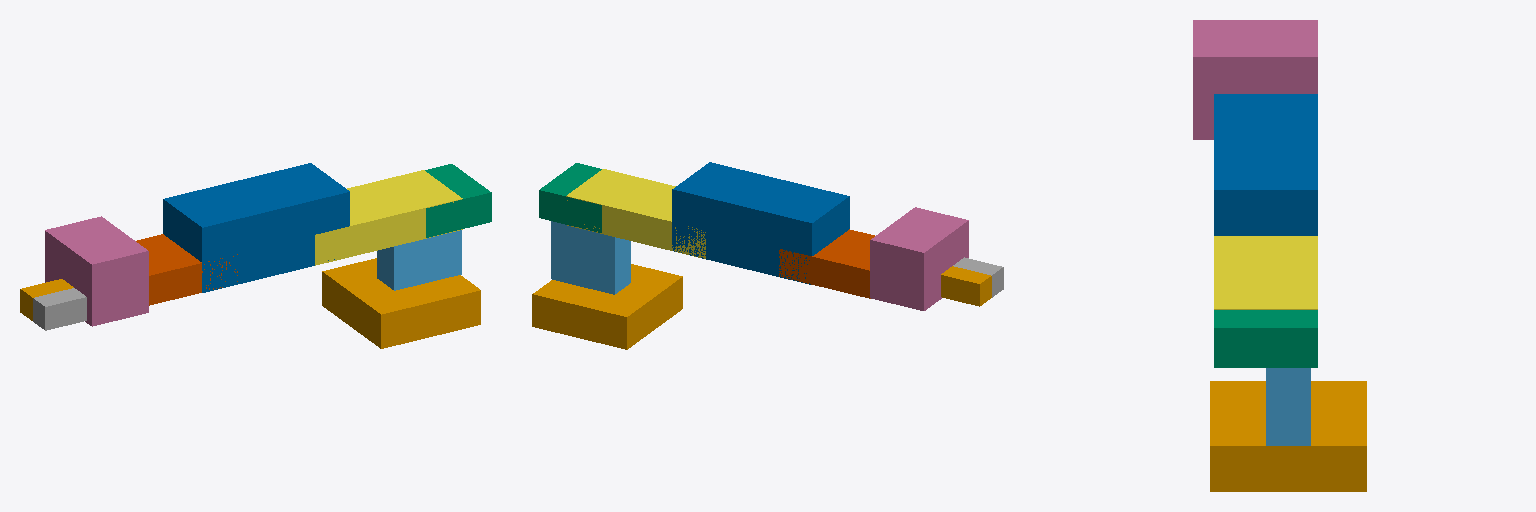
robot.urdf — arm:
<?xml version="1.0"?>
<robot name="arm">

  <link name="base_link">
    <visual>
      <geometry>
        <box size="0.088 0.090 0.029"/>
      </geometry> 
      <origin rpy="0 0 0" xyz="0 0 0"/>
    </visual>
    <collision>
      <geometry>
        <box size="0.088 0.090 0.029"/>
      </geometry> 
      <origin rpy="0 0 0" xyz="0 0 0"/>
    </collision>
  </link>

  <link name="base_up">
    <visual>
      <geometry>
        <box size="0.059 0.026 0.054"/>
      </geometry>
      <origin rpy="0 0 0" xyz="0 0 0"/>
    </visual>
    <collision>
      <geometry>
        <box size="0.059 0.026 0.054"/>
      </geometry>
      <origin rpy="0 0 0" xyz="0 0 0"/>
    </collision>
  </link>

  <joint name="baseup_link" type="fixed">
    <parent link="base_link"/>
    <child link="base_up"/>
    <origin xyz="0.0155 0 0.0415"/>
  </joint>

  <link name="servo_rotz">
    <visual>
      <geometry>
        <box size="0.058 0.060 0.025"/>
      </geometry>
      <origin rpy="0 0 0" xyz="0 -0.013 0"/>
    </visual>
    <collision>
      <geometry>
        <box size="0.058 0.060 0.025"/>
      </geometry>
      <origin rpy="0 0 0" xyz="0 -0.013 0"/>
    </collision>
  </link>

  <joint name="servo_link2" type="revolute">
    <axis xyz="0 0 1"/>
    <limit effort="1000.0" lower="-1.57" upper="1.57" velocity="0.5"/>
    <parent link="base_up"/>
    <child link="servo_rotz"/>
    <origin xyz="0.0095 0 0.0395"/>
  </joint>

  <link name="connection_servo12">
    <visual>
      <geometry>
        <box size="0.13 0.06 0.026"/>
      </geometry>
      <origin rpy="0 0 0" xyz="-0.052 0 0"/>
    </visual>
    <collision>
      <geometry>
        <box size="0.13 0.06 0.026"/>
      </geometry>
      <origin rpy="0 0 0" xyz="-0.052 0 0"/>
    </collision>
  </link>

  <joint name="con_up_1" type="revolute">
    <axis xyz="0 1 0"/>
    <limit effort="1000.0" lower="-1.57" upper="1.57" velocity="0.5"/>
    <parent link="servo_rotz"/>
    <child link="connection_servo12"/>
    <origin xyz="-0.009 -0.013 0"/>
  </joint>


  <link name="connection_servo23">
    <visual>
      <geometry>
        <box size="0.130 0.060 0.055"/>
      </geometry>
      <origin rpy="0 0 0" xyz="-0.047 0 0.0145"/>
    </visual>
    <collision>
      <geometry>
        <box size="1.30 0.60 0.55"/>
      </geometry>
      <origin rpy="0 0 0" xyz="-0.047 0 0.0145"/>
    </collision>
  </link>

  <joint name="con_up_2" type="revolute">
    <axis xyz="0 1 0"/>
    <limit effort="1000.0" lower="-1.57" upper="1.57" velocity="0.5"/>
    <parent link="connection_servo12"/>
    <child link="connection_servo23"/>
    <origin xyz="-0.104 0 0"/>
  </joint>

  <link name="servo_arm_rotation">
    <visual>
      <geometry>
        <box size="0.085 0.060 0.025 "/>
      </geometry>
      <origin rpy="0 0 0" xyz="-0.0295 0 0"/>
    </visual>
    <collision>
      <geometry>
        <box size="0.085 0.060 0.025 "/>
      </geometry>
      <origin rpy="0 0 0" xyz="-0.0295 0 0"/>
    </collision>
  </link>

 <joint name="con_up_3" type="revolute">
    <axis xyz="0 1 0"/>
    <limit effort="1000.0" lower="-1.57" upper="1.57" velocity="0.5"/>
    <parent link="connection_servo23"/>
    <child link="servo_arm_rotation"/>
    <origin xyz="-0.094 0 0"/>
  </joint>

  <link name="gripper_b">
    <visual>
      <geometry>
        <box size="0.050 0.072 0.052"/>
      </geometry>
      <origin rpy="0 0 0" xyz="-0.025 -0.019 0.014"/>
    </visual>
    <collision>
      <geometry>
        <box size="0.050 0.072 0.052"/>
      </geometry>
      <origin rpy="0 0 0" xyz="-0.025 -0.019 0.014"/>
    </collision>
  </link>

 <joint name="rotation_grip" type="revolute">
    <axis xyz="1 0 0"/>
    <limit effort="1000.0" lower="0" upper="3.14" velocity="0.5"/>
    <parent link="servo_arm_rotation"/>
    <child link="gripper_b"/>
    <origin xyz="-0.072 0.013 0"/>
  </joint>

  <link name="left_g">
    <visual>
      <geometry>
        <box size="0.037 0.019 0.020"/>
      </geometry>
      <origin rpy="0 0 0" xyz="0 0 0"/>
    </visual>
    <collision>
      <geometry>
        <box size="0.037 0.019 0.020"/>
      </geometry>
      <origin rpy="0 0 0" xyz="0 0 0"/>
    </collision>
  </link>

 <joint name="fix_left" type="fixed">
    <parent link="gripper_b"/>
    <child link="left_g"/>
    <origin xyz="-0.068 -0.038 0"/>
  </joint>

  <link name="right_g">
    <visual>
      <geometry>
        <box size="0.037 0.019 0.020"/>
      </geometry>
      <origin rpy="0 0 0" xyz="0 0 0"/>
    </visual>
    <collision>
      <geometry>
        <box size="0.037 0.019 0.020"/>
      </geometry>
      <origin rpy="0 0 0" xyz="0 0 0"/>
    </collision>
  </link>

 <joint name="plan_move" type="prismatic">
    <axis xyz="0 1 0"/>
    <limit effort="1000.0" lower="0" upper="0.053" velocity="0.5"/>
    <parent link="left_g"/>
    <child link="right_g"/>
    <origin xyz="0 0.019 0"/>
  </joint>

<!-- -->
</robot>

--- What the picture shows (computed from the rendered views, not written in the file) ---
Views: 3 orthographic renders of the robot side by side, from view 1: azimuth 30°, elevation 25°; view 2: azimuth 150°, elevation 25°; view 3: azimuth 270°, elevation 25°.
Model arm with 9 links and 8 joints (5 revolute, 1 prismatic, 2 fixed), rooted at base_link, posed all joints at 0.
Links seen in each view (by area): view 1: connection_servo23, base_link, gripper_b, connection_servo12, base_up, servo_arm_rotation, servo_rotz, left_g, right_g; view 2: connection_servo23, base_link, gripper_b, connection_servo12, base_up, servo_arm_rotation, servo_rotz, right_g, left_g; view 3: connection_servo23, base_link, gripper_b, connection_servo12, servo_rotz, base_up.
Link boxes in pixels (left/top/right/bottom): connection_servo23: left=163, top=163, right=349, bottom=292; base_link: left=322, top=258, right=480, bottom=348; gripper_b: left=45, top=216, right=148, bottom=326; connection_servo12: left=315, top=170, right=462, bottom=265; base_up: left=377, top=230, right=461, bottom=290; servo_arm_rotation: left=136, top=234, right=237, bottom=305; servo_rotz: left=425, top=164, right=491, bottom=237; left_g: left=33, top=288, right=86, bottom=330; right_g: left=20, top=279, right=73, bottom=320; connection_servo23: left=672, top=162, right=849, bottom=284; base_link: left=532, top=264, right=682, bottom=349; gripper_b: left=870, top=207, right=968, bottom=310; connection_servo12: left=566, top=169, right=705, bottom=258; base_up: left=551, top=221, right=630, bottom=294; servo_arm_rotation: left=779, top=229, right=874, bottom=298; servo_rotz: left=539, top=163, right=601, bottom=232; right_g: left=941, top=266, right=991, bottom=306; left_g: left=953, top=257, right=1003, bottom=297; connection_servo23: left=1214, top=94, right=1317, bottom=235; base_link: left=1210, top=381, right=1366, bottom=491; gripper_b: left=1193, top=20, right=1317, bottom=139; connection_servo12: left=1214, top=236, right=1317, bottom=309; servo_rotz: left=1214, top=310, right=1317, bottom=367; base_up: left=1266, top=368, right=1310, bottom=445.
Bounding box of the posed robot: 0.3945 × 0.1 × 0.1375 m (x, y, z).
Geometry: primitives only (box / cylinder / sphere), no mesh files.
